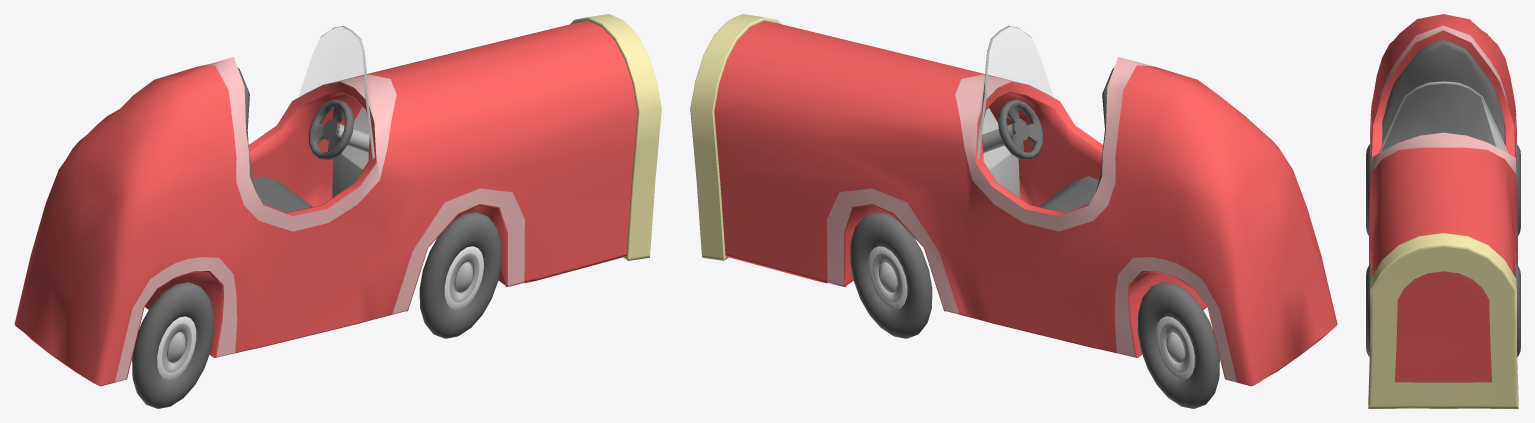
3 renders of one model, left to right at view 1: azimuth 30°, elevation 25°; view 2: azimuth 150°, elevation 25°; view 3: azimuth 270°, elevation 25°, orthographic. The views are drawn at different scales.
Parts seen in each view (by area): view 1: caseBase_02-DarkBrown, caseBase_02-Brown, carWheels-DarkBrown.1 (×2), caseBase_02-DarkBrown.1, window-DarkBrown.2, steeringWheel-DarkBrown.1, carWheels-DarkBrown.2, chair, insideStat; view 2: caseBase_02-DarkBrown, carWheels-DarkBrown.1 (×2), caseBase_02-Brown, caseBase_02-DarkBrown.1, window-DarkBrown.2, steeringWheel-DarkBrown.1, carWheels-DarkBrown.2, chair, insideStat; view 3: caseBase_02-DarkBrown, caseBase_02-DarkBrown.1, chair, window-DarkBrown.2, caseBase_02-Brown, carWheels-DarkBrown.1, window-DarkBrown.1.
Boxes of the visible parts, x1,y1,x2,y2 form: caseBase_02-DarkBrown: (14,20,637,386); caseBase_02-Brown: (115,57,524,382); carWheels-DarkBrown.1 (×2): (132,212,501,408); caseBase_02-DarkBrown.1: (570,14,661,260); window-DarkBrown.2: (297,27,373,141); steeringWheel-DarkBrown.1: (309,99,353,159); carWheels-DarkBrown.2: (157,246,483,379); chair: (237,67,312,212); insideStat: (332,107,369,197); caseBase_02-DarkBrown: (714,20,1337,386); carWheels-DarkBrown.1 (×2): (850,212,1219,408); caseBase_02-Brown: (827,57,1236,382); caseBase_02-DarkBrown.1: (690,14,781,260); window-DarkBrown.2: (979,27,1054,123); steeringWheel-DarkBrown.1: (998,99,1042,159); carWheels-DarkBrown.2: (868,246,1194,379); chair: (1039,67,1114,212); insideStat: (982,108,1019,197); caseBase_02-DarkBrown: (1369,14,1517,382); caseBase_02-DarkBrown.1: (1368,233,1518,408); chair: (1382,39,1504,151); window-DarkBrown.2: (1382,84,1494,150); caseBase_02-Brown: (1370,25,1516,277); carWheels-DarkBrown.1: (1366,144,1520,356); window-DarkBrown.1: (1378,81,1508,153).
Size of the model in its own units: 0.045 by 0.0222 by 0.0123.
